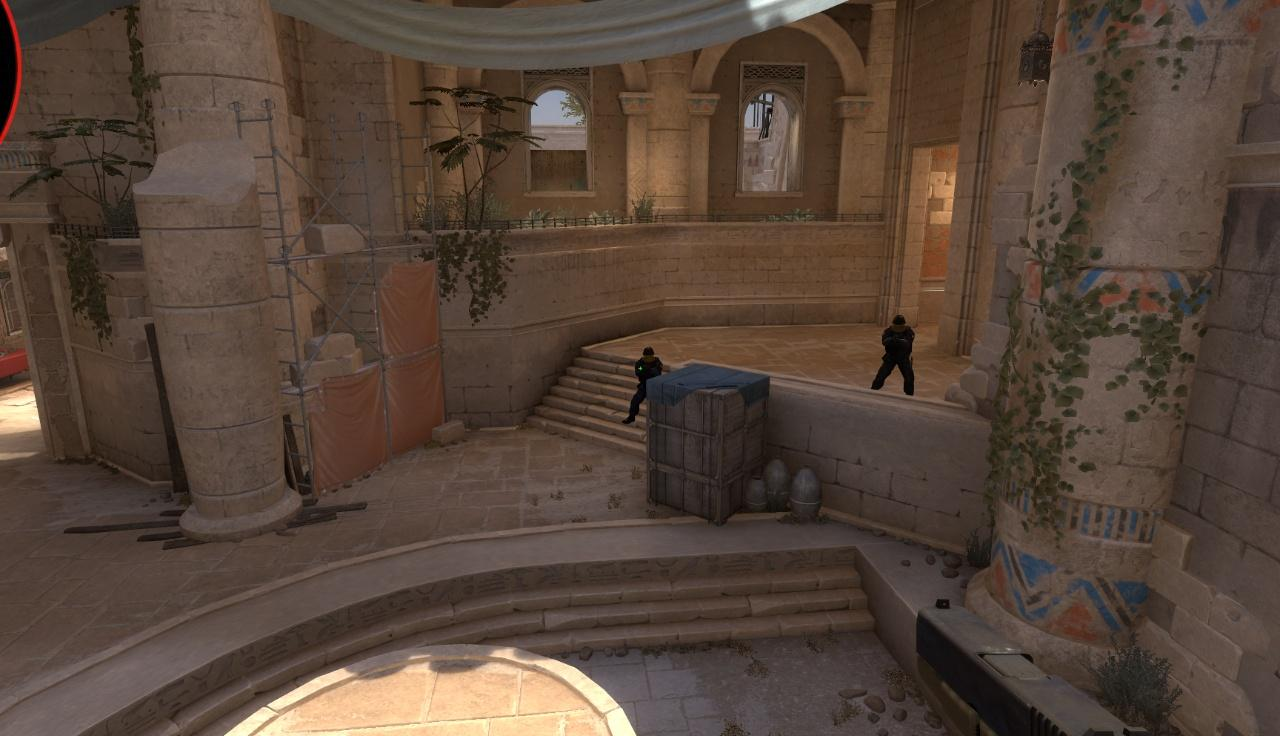ct: (883, 315, 913, 397), (633, 346, 664, 377)
cthead: (892, 316, 906, 331), (643, 348, 655, 362)
pistol: (910, 596, 1153, 736)
